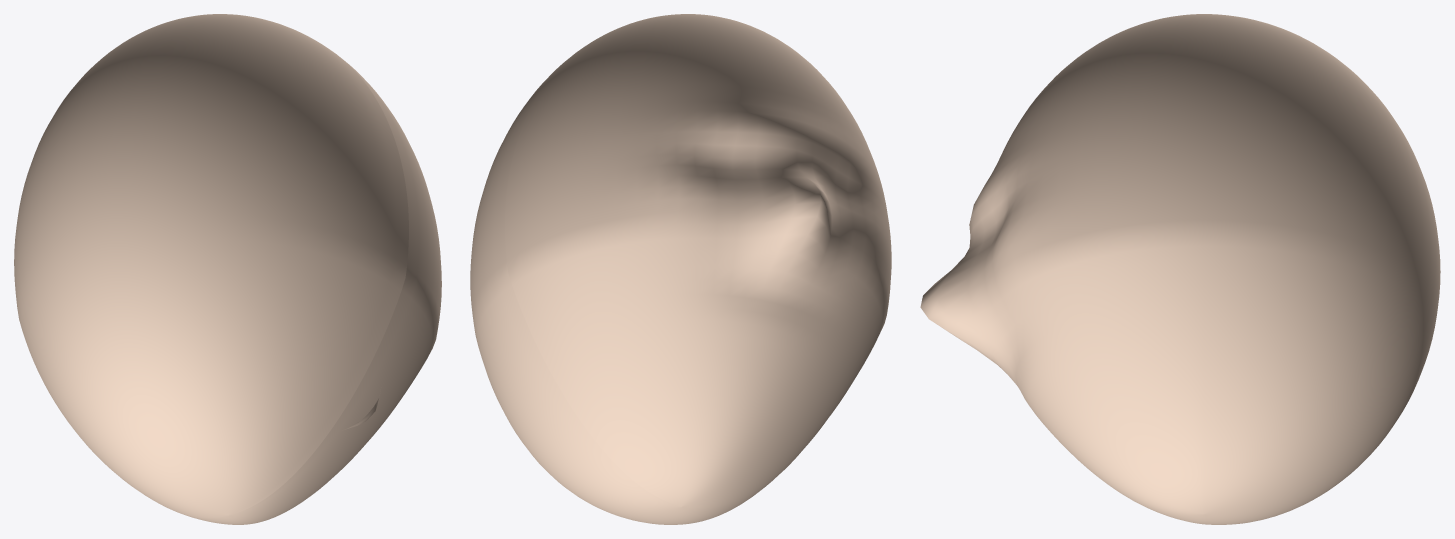
The picture shows the model from 3 angles, left to right: view 1: azimuth 30°, elevation 25°; view 2: azimuth 150°, elevation 25°; view 3: azimuth 270°, elevation 25°; orthographic projection.
Visible parts, largest first — view 1: face; view 2: face; view 3: face.
Part boxes in pixels (x1=…): face: x1=14, y1=14, x2=441, y2=524; face: x1=470, y1=14, x2=891, y2=524; face: x1=920, y1=14, x2=1440, y2=524.
Size of the model in its own units: 1.56 by 2 by 1.94.
